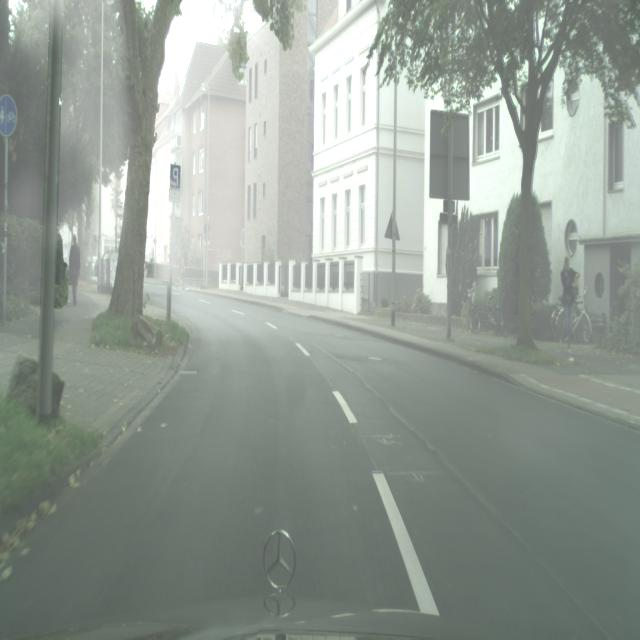person: (557, 257, 580, 355)
